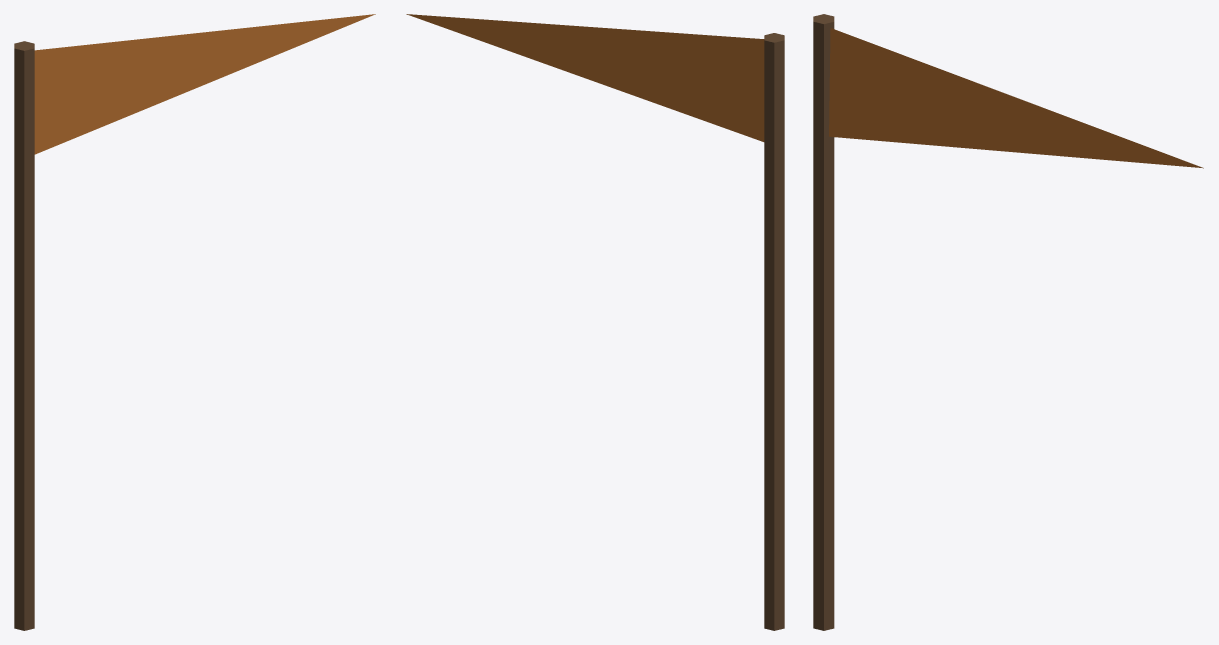
The model's file is flag.fbx.
3 renders of one model, left to right at view 1: azimuth 30°, elevation 25°; view 2: azimuth 150°, elevation 25°; view 3: azimuth 330°, elevation 25°, orthographic. The views are drawn at different scales.
Parts seen in each view (by area): view 1: pPlane1, pCylinder1; view 2: pPlane1, pCylinder1; view 3: pPlane1, pCylinder1.
Part boxes in pixels (x1,y1,x2,y2): pPlane1: [34, 14, 375, 154]; pCylinder1: [14, 41, 34, 630]; pPlane1: [406, 14, 764, 141]; pCylinder1: [764, 33, 784, 630]; pPlane1: [829, 28, 1203, 168]; pCylinder1: [813, 14, 834, 630].
Size of the model in its own units: 9.13 by 13.75 by 0.4669.
